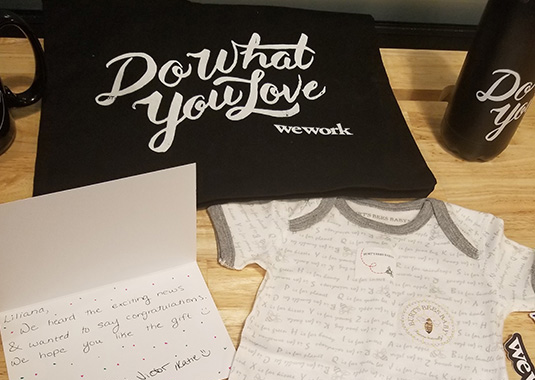wework: (271, 121, 355, 137)
